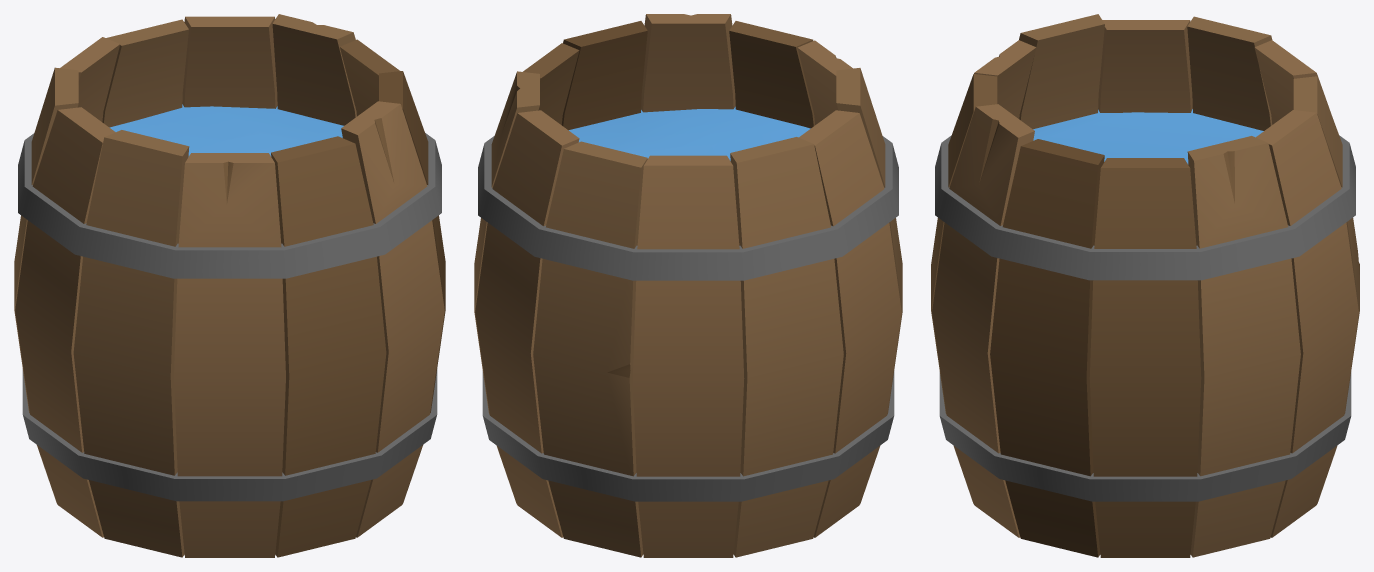
File: Barrel_02.fbx
3 views of the same model, side by side, from view 1: azimuth 30°, elevation 25°; view 2: azimuth 150°, elevation 25°; view 3: azimuth 270°, elevation 25° (orthographic).
Visible parts, largest first — view 1: Barrel_02_LOD0; view 2: Barrel_02_LOD0; view 3: Barrel_02_LOD0.
Part boxes in pixels (bbox=[...]): Barrel_02_LOD0: bbox=[14, 14, 445, 557]; Barrel_02_LOD0: bbox=[474, 14, 902, 557]; Barrel_02_LOD0: bbox=[931, 14, 1359, 557].
Size of what is drawn, in the model's own units: 0.7488 by 0.7693 by 0.7488.
